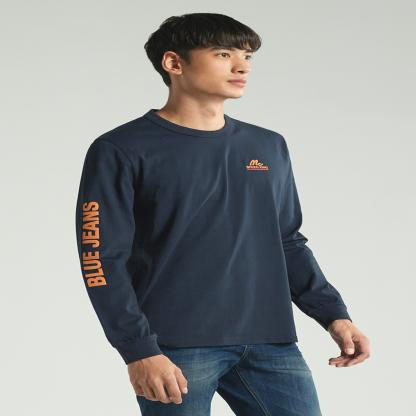dress: (72, 101, 351, 359)
jean: (70, 9, 392, 416)
